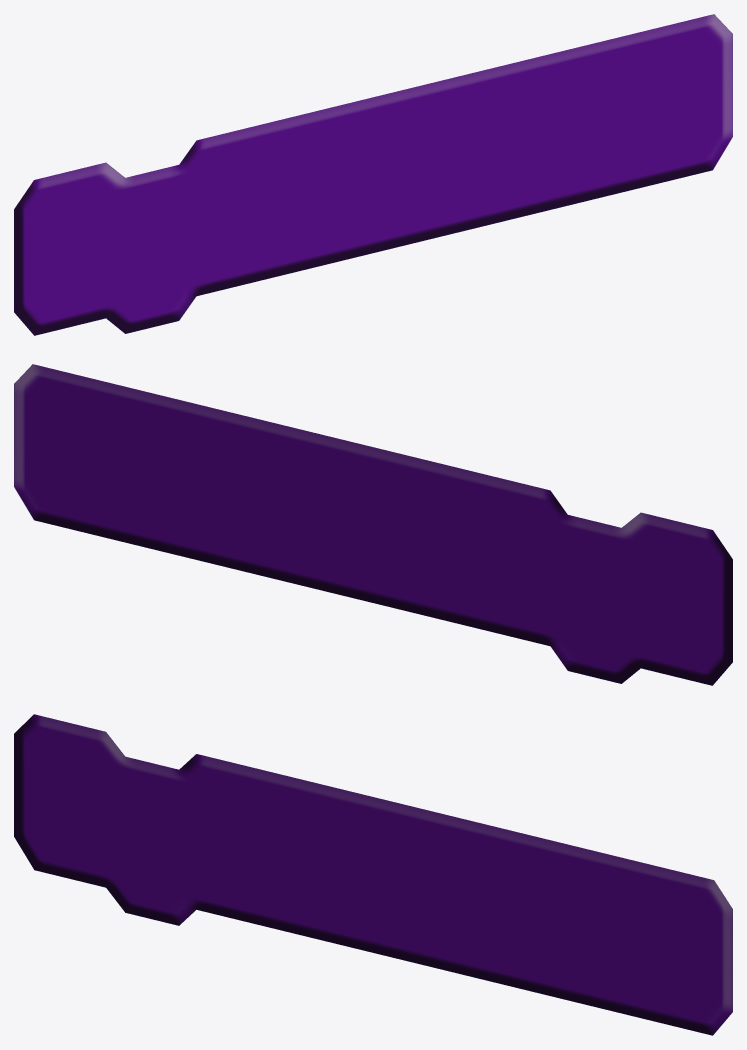
File: Block01_Plane.fbx
3 renders of one model, top to bottom at view 1: azimuth 30°, elevation 25°; view 2: azimuth 150°, elevation 25°; view 3: azimuth 330°, elevation 25°, orthographic.
Parts seen in each view (by area): view 1: pCube1; view 2: pCube1; view 3: pCube1.
Part boxes in pixels (x1,y1,x2,y2): pCube1: (14,14,732,335); pCube1: (14,364,732,685); pCube1: (14,714,732,1035).
Bounding box in the file's own units: 31.35 × 7.35 × 0.
